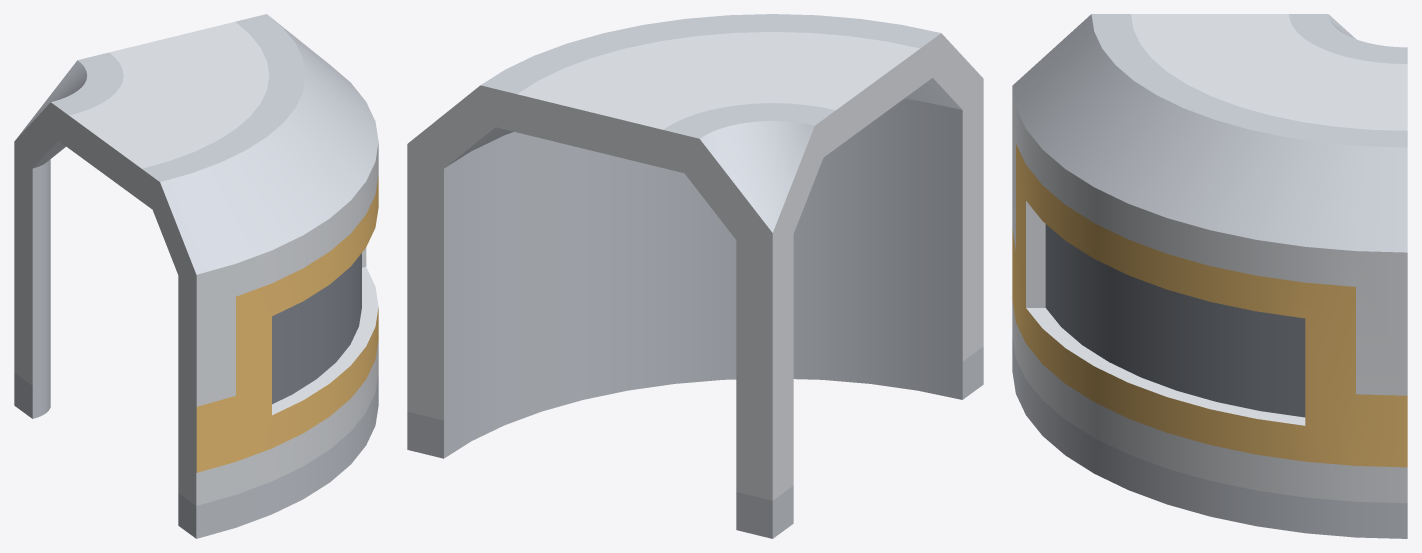
Rendered from corridor_cornerRoundWindow.glb.
3 renders of one model, left to right at view 1: azimuth 30°, elevation 25°; view 2: azimuth 150°, elevation 25°; view 3: azimuth 270°, elevation 25°, orthographic. The views are drawn at different scales.
Parts seen in each view (by area): view 1: corridor_cornerRoundWindow; view 2: corridor_cornerRoundWindow; view 3: corridor_cornerRoundWindow.
Boxes of the visible parts, box(x1,y1,x2,y2) form: corridor_cornerRoundWindow: box(14, 14, 378, 538); corridor_cornerRoundWindow: box(407, 14, 983, 538); corridor_cornerRoundWindow: box(1012, 14, 1407, 538).
Size of the model in its own units: 1 by 1 by 1.
